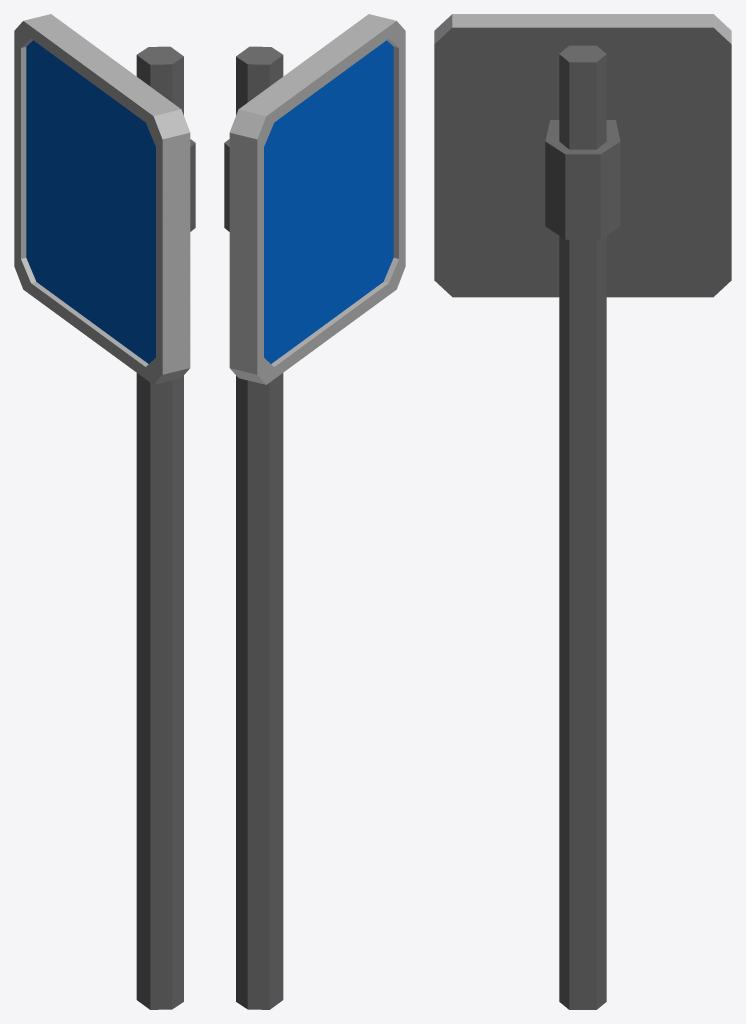
Rendered from CrossRoadSign.fbx.
The picture shows the model from 3 angles, left to right: view 1: azimuth 30°, elevation 25°; view 2: azimuth 150°, elevation 25°; view 3: azimuth 270°, elevation 25°; orthographic projection.
Parts seen in each view (by area): view 1: polySurface2; view 2: polySurface2; view 3: polySurface2.
Boxes of the visible parts, bbox=[...] form: polySurface2: bbox=[14, 14, 195, 1009]; polySurface2: bbox=[224, 14, 405, 1009]; polySurface2: bbox=[434, 14, 731, 1009].
Size of the model in its own units: 24.92 by 230 by 64.95.
